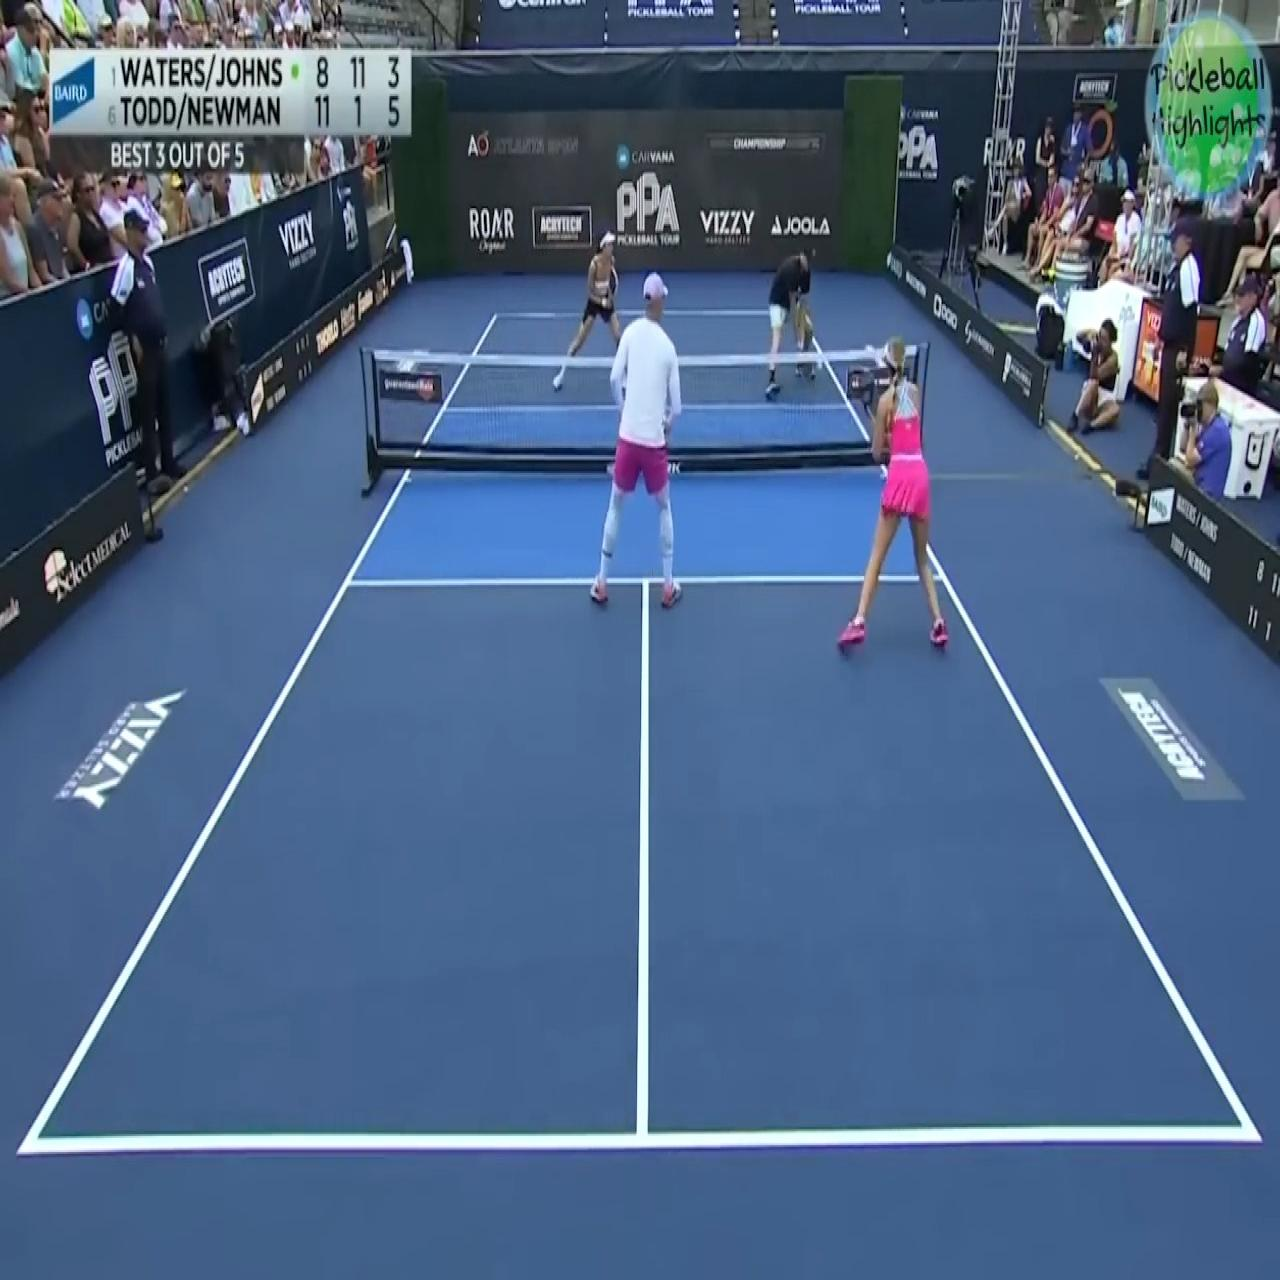pickleball: (817, 359, 823, 370)
